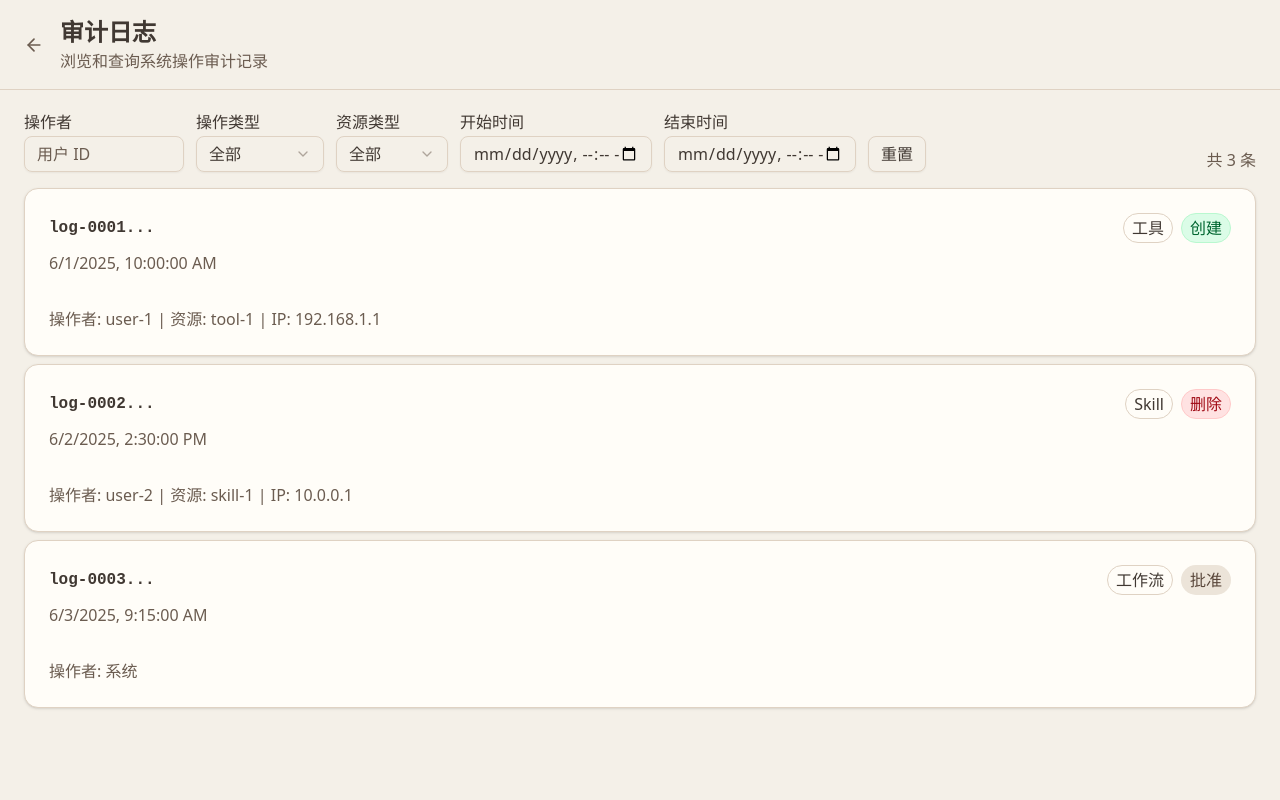
it: AuditLogsPage › detail dialog shows fallback text when detail is null
Expected: the text "log-0002..." is shown, [49, 396, 155, 412]
Click the text "log-0002...": (640, 448) [24, 364, 1256, 532]
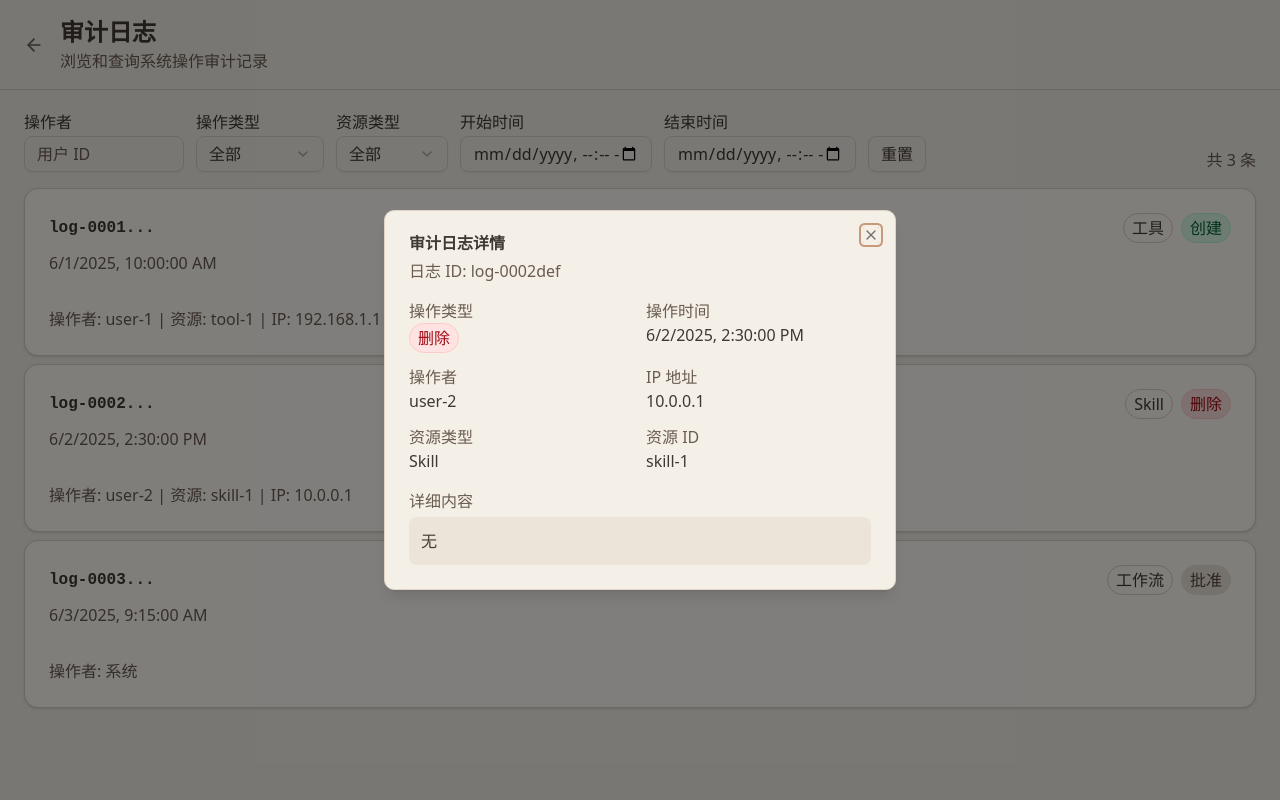
Now the heading "审计日志详情" is shown, box [409, 232, 505, 254]
Now the text "无" is shown, box [409, 517, 871, 565]
